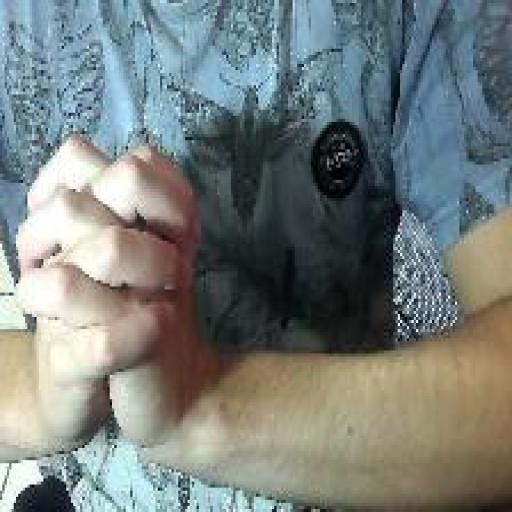Mi -snake-: (10, 131, 207, 463)
